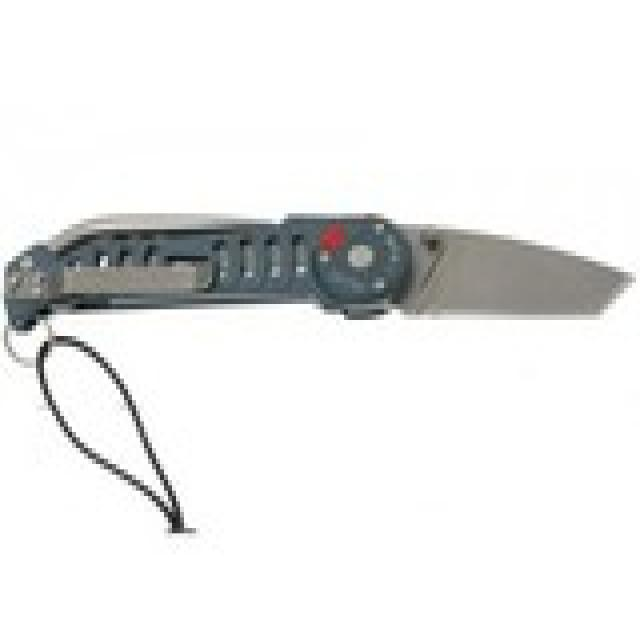Knife: (7, 201, 635, 371)
